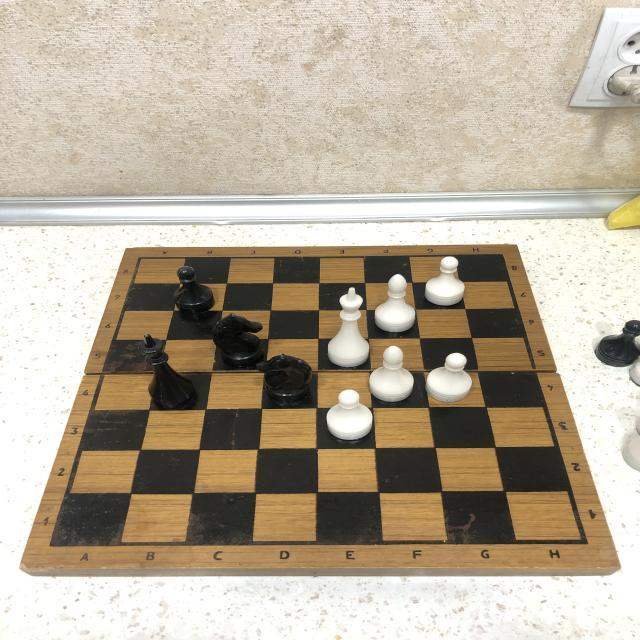chess-table-corners: (562, 520, 605, 556), (34, 528, 76, 562), (126, 248, 159, 269), (484, 247, 510, 270)
